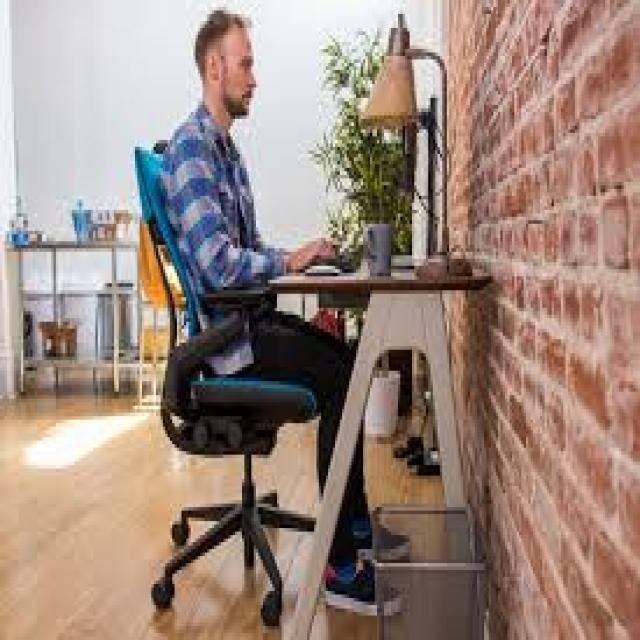chair: (92, 119, 340, 640)
